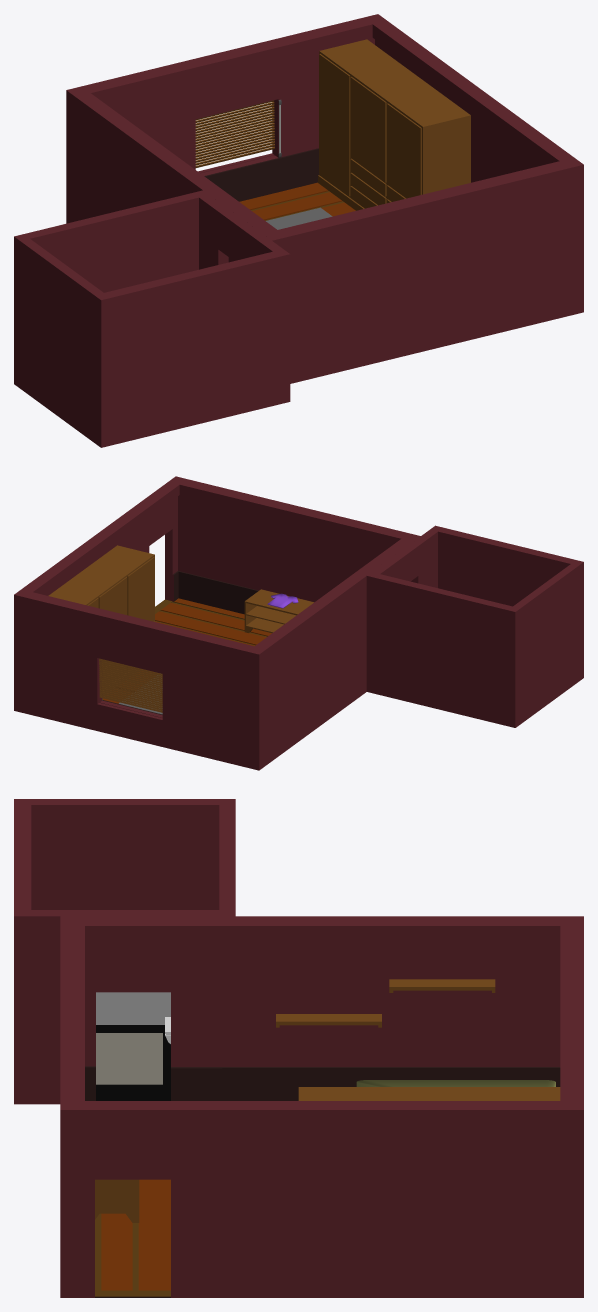
The model's file is Cuarto 1.fbx.
The picture shows the model from 3 angles, top to bottom: view 1: azimuth 30°, elevation 25°; view 2: azimuth 150°, elevation 25°; view 3: azimuth 270°, elevation 25°; orthographic projection. The views are drawn at different scales.
Parts seen in each view (by area): view 1: Plane.004, placard, Cube.005, alfombra; view 2: Plane.004, placard, Cube.005, mueble; view 3: Plane.004, placard, Cube.016, ducha, mueble, Cube.018, Cube.010, Cube.009.
Part boxes in pixels (bbox=[...]): Plane.004: bbox=[14, 14, 583, 447]; placard: bbox=[318, 39, 470, 210]; Cube.005: bbox=[195, 100, 274, 167]; alfombra: bbox=[266, 207, 332, 229]; Plane.004: bbox=[14, 476, 583, 770]; placard: bbox=[48, 545, 154, 694]; Cube.005: bbox=[99, 658, 162, 712]; mueble: bbox=[244, 589, 313, 632]; Plane.004: bbox=[14, 799, 583, 1297]; placard: bbox=[298, 1087, 560, 1100]; Cube.016: bbox=[96, 1033, 162, 1084]; ducha: bbox=[96, 992, 170, 1024]; mueble: bbox=[95, 1179, 139, 1222]; Cube.018: bbox=[356, 1080, 555, 1086]; Cube.010: bbox=[389, 979, 495, 992]; Cube.009: bbox=[276, 1014, 381, 1027].
Size of the model in its own units: 1616 by 455 by 1252.
